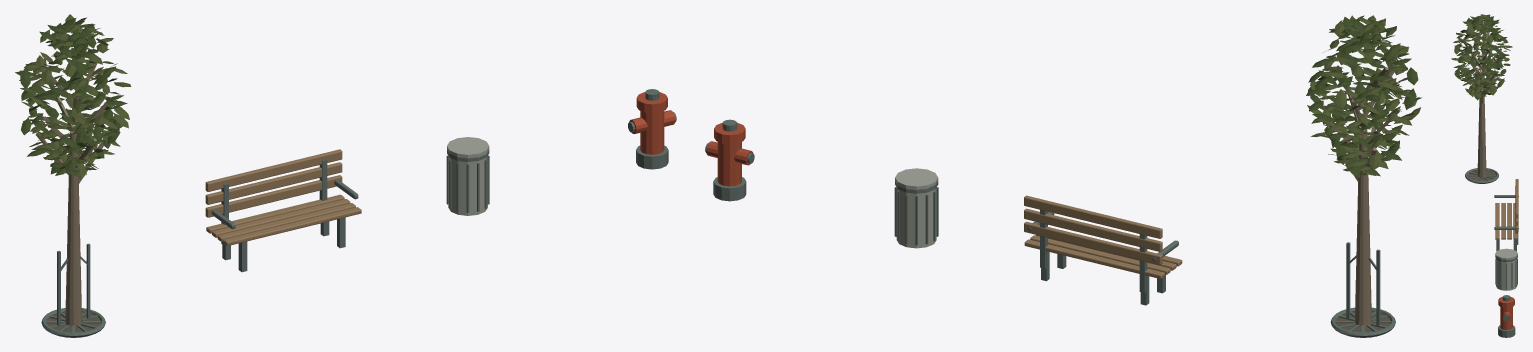
File: streetside.glb
The picture shows the model from 3 angles, left to right: view 1: azimuth 30°, elevation 25°; view 2: azimuth 150°, elevation 25°; view 3: azimuth 270°, elevation 25°; orthographic projection. The views are drawn at different scales.
Visible parts, largest first — view 1: street tree leaf blades, seat slat, tree grate rim, tree tapered trunk, litter bin, hydrant body; view 2: street tree leaf blades, seat slat, tree grate rim, tree tapered trunk, litter bin, hydrant body; view 3: street tree leaf blades, tree grate rim, tree tapered trunk, seat slat, litter bin, hydrant body, tree soil.
Boxes of the visible parts, left/top/right/bottom form: street tree leaf blades: left=15, top=14, right=131, bottom=179; seat slat: left=205, top=149, right=361, bottom=245; tree grate rim: left=41, top=89, right=676, bottom=337; tree tapered trunk: left=35, top=61, right=110, bottom=326; litter bin: left=447, top=137, right=489, bottom=215; hydrant body: left=629, top=92, right=675, bottom=154; street tree leaf blades: left=1306, top=15, right=1421, bottom=178; seat slat: left=1024, top=195, right=1182, bottom=278; tree grate rim: left=705, top=119, right=1395, bottom=337; tree tapered trunk: left=1325, top=63, right=1400, bottom=326; litter bin: left=895, top=168, right=938, bottom=248; hydrant body: left=706, top=122, right=752, bottom=186; street tree leaf blades: left=1451, top=14, right=1512, bottom=100; tree grate rim: left=1465, top=139, right=1518, bottom=337; tree tapered trunk: left=1461, top=31, right=1501, bottom=177; seat slat: left=1495, top=179, right=1518, bottom=239; litter bin: left=1495, top=248, right=1517, bottom=290; hydrant body: left=1498, top=296, right=1514, bottom=329; tree soil: left=1467, top=170, right=1496, bottom=183.
Size of the model in its own units: 11.01 by 4.73 by 1.79.
Materials: 9 (3 with a texture image).
